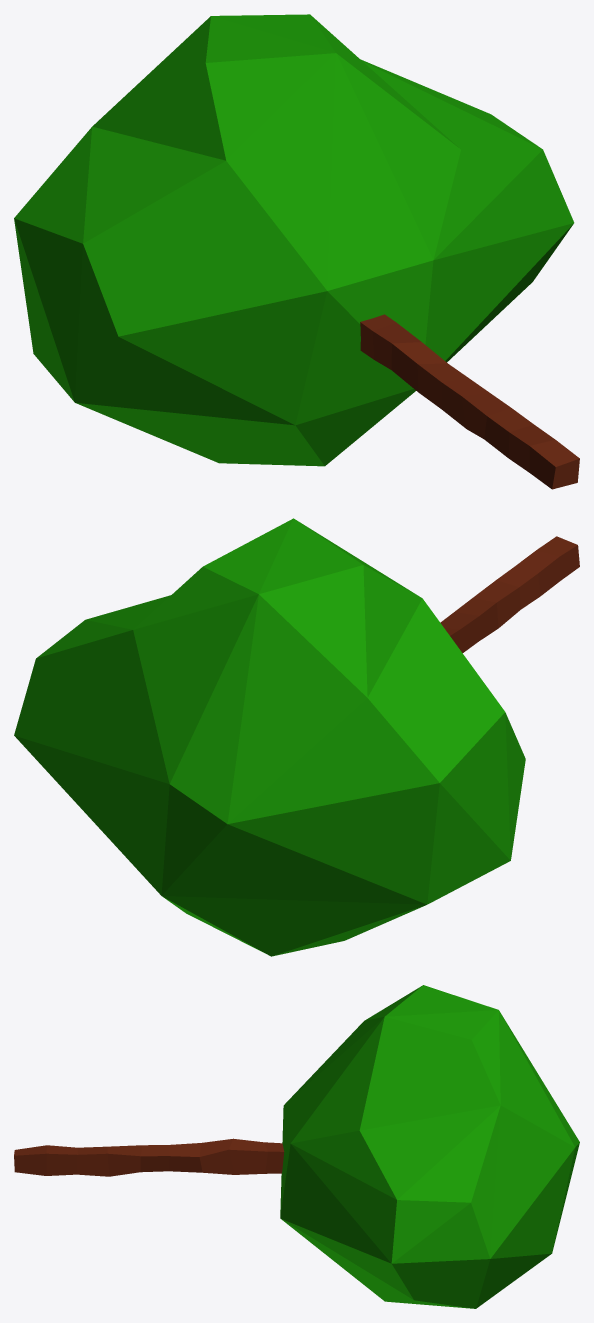
File: tree1.fbx
3 views of the same model, one above another, from view 1: azimuth 30°, elevation 25°; view 2: azimuth 150°, elevation 25°; view 3: azimuth 270°, elevation 25° (orthographic). The views are drawn at different scales.
Visible parts, largest first — view 1: Tree 1; view 2: Tree 1; view 3: Tree 1.
Boxes of the visible parts, x1,y1,x2,y2 form: Tree 1: (14,14,579,489); Tree 1: (14,518,579,956); Tree 1: (14,985,579,1308).
Bounding box in the file's own units: 58591 × 46969 × 83241.
